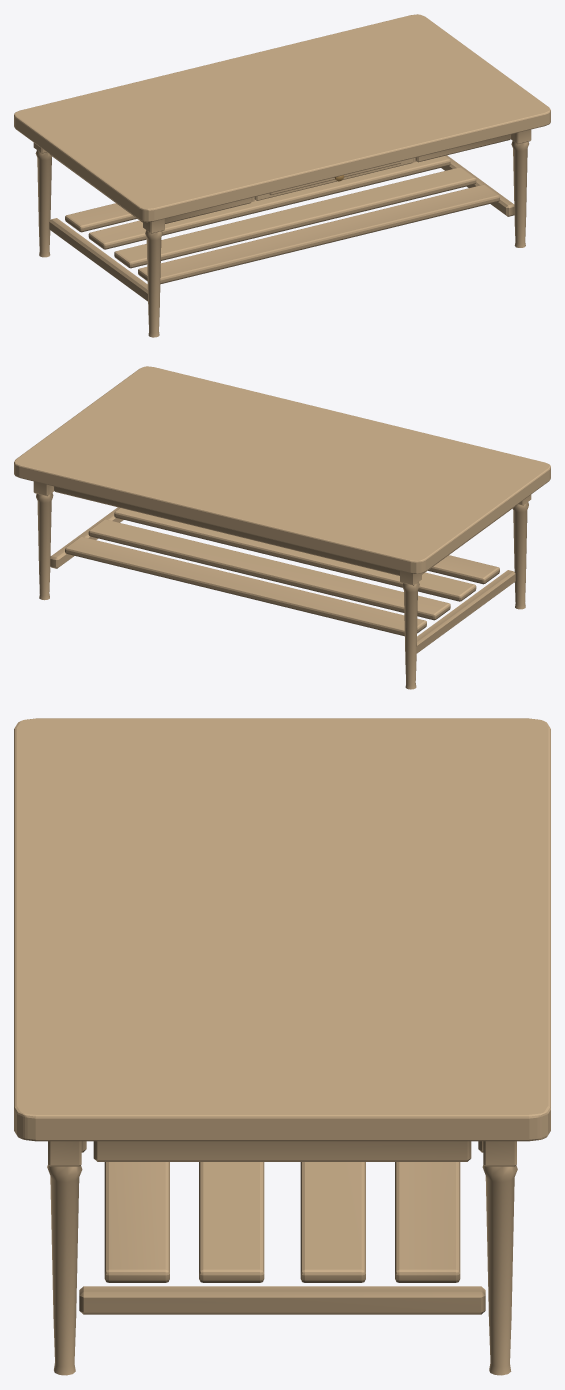
Rendered from coffeeTable.glb.
3 renders of one model, top to bottom at view 1: azimuth 30°, elevation 25°; view 2: azimuth 150°, elevation 25°; view 3: azimuth 270°, elevation 25°, orthographic. The views are drawn at different scales.
Visible parts, largest first — view 1: table, drawer; view 2: table; view 3: table.
Boxes of the visible parts, bbox=[...] form: table: bbox=[14, 14, 550, 337]; drawer: bbox=[254, 158, 413, 200]; table: bbox=[14, 366, 550, 689]; table: bbox=[14, 718, 550, 1375].
Size of the model in its own units: 1.3 by 0.42 by 0.74.
